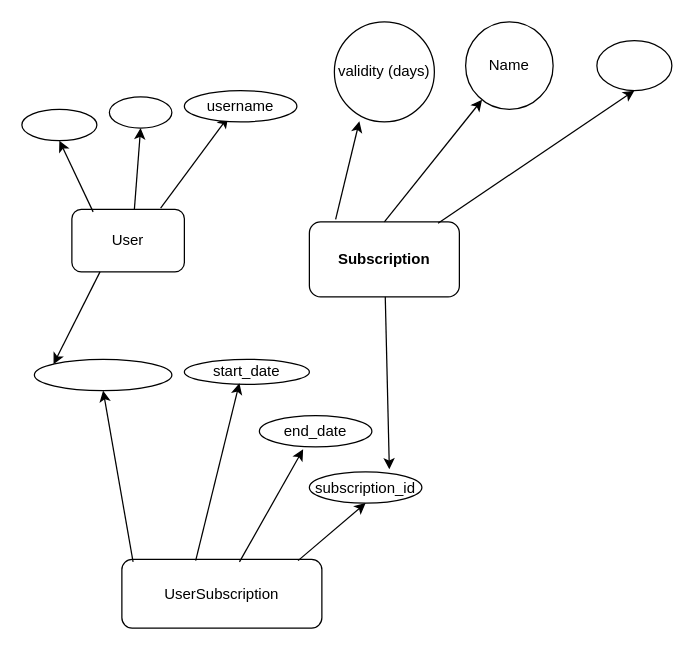
The diagram is 694 pixels wide and 650 high, and some of its shapes have lost their labels. Each missing label, with the centre of its shape:
"email" goes at [59,124].
"phone" goes at [140,112].
"Price" goes at [634,65].
"user_id(fk)" goes at [102,374].
